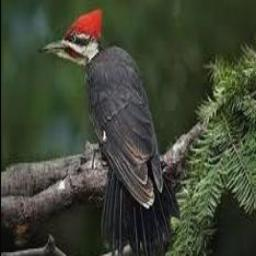Woodpecker: (40, 5, 178, 256)
